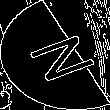N_NE: (14, 26, 96, 84)
